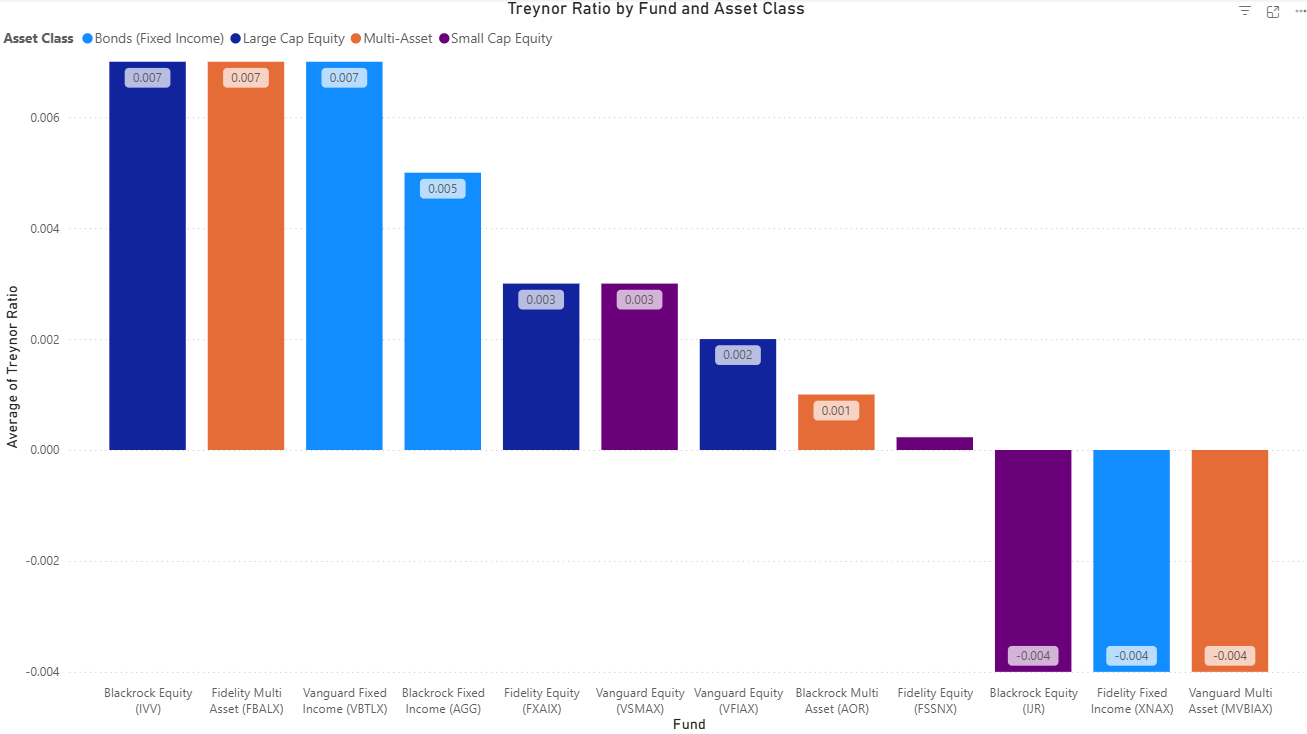

Layout of this report page (visuals, bound fields, positions):
{"tool":"powerbi","page":{"name":"Treynor Ratio Chart","canvas":[1280,720],"ordinal":1},"visuals":[{"type":"lineStackedColumnComboChart","title":"Treynor Ratio by Fund and Asset Class","fields":{"Category":["Ratios.Fund"],"Y":["Avg(Ratios.Treynor Ratio)"],"Series":["Ratios.Asset Class"]},"box":[0,0,1280,719.8],"z":0}]}

Visuals, with their boxes in screenshot pixels (x1, y1, x2, y2), scaled from the page's 1280x720 canvas onto the 1307x734 screenshot:
"Treynor Ratio by Fund and Asset Class" lineStackedColumnComboChart: rect(0, 0, 1306, 733)
